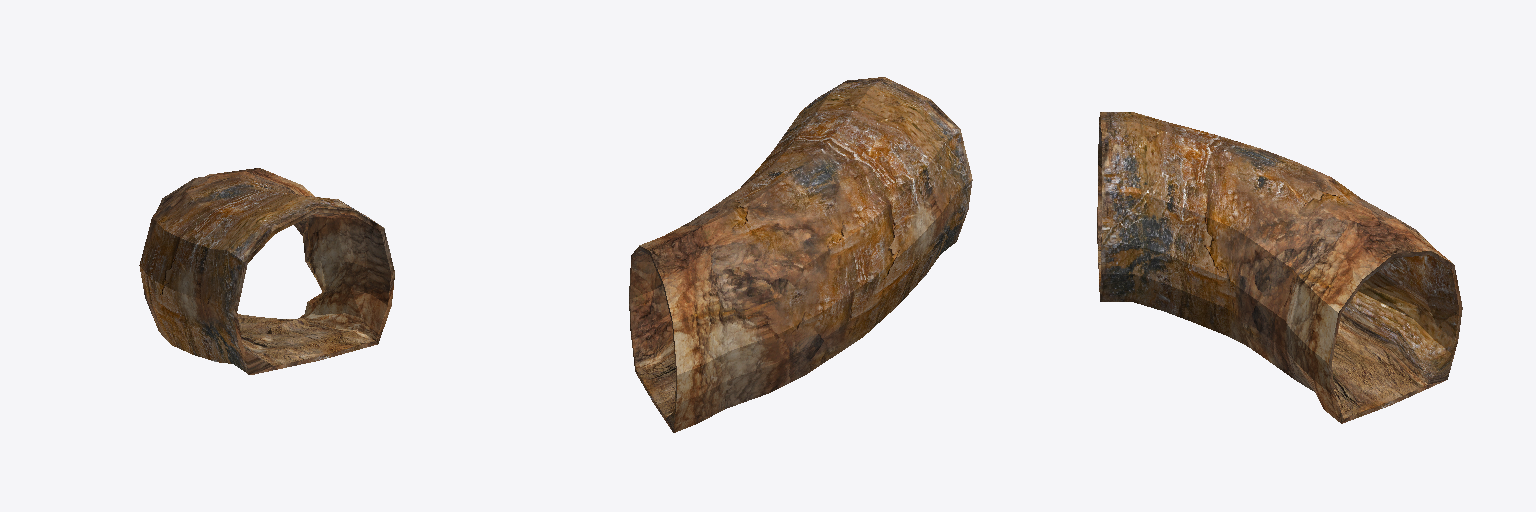
3 views of the same model, side by side, from view 1: azimuth 30°, elevation 25°; view 2: azimuth 150°, elevation 25°; view 3: azimuth 270°, elevation 25° (orthographic).
Parts seen in each view (by area): view 1: Group14_cave7; view 2: Group14_cave7; view 3: Group14_cave7.
Part boxes in pixels (x1,y1,x2,y2): Group14_cave7: (139,168,394,374); Group14_cave7: (629,77,972,432); Group14_cave7: (1097,112,1462,423).
Bounding box in the file's own units: 143 × 144 × 197.
1 materials, 1 textured.